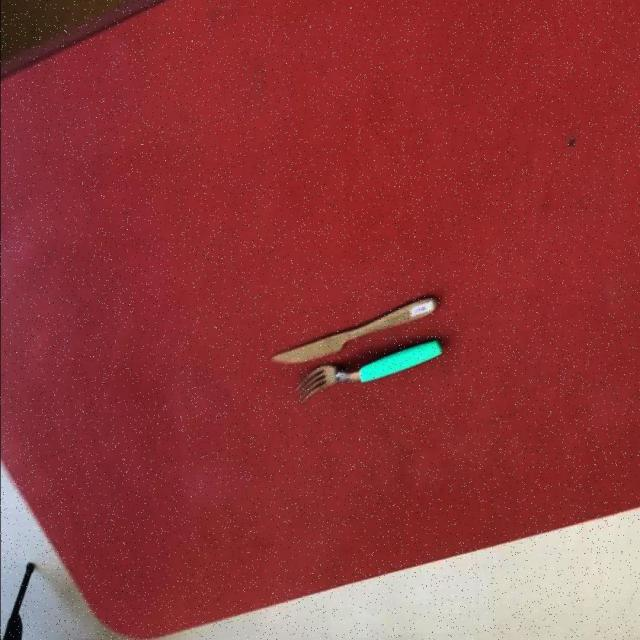Fork: (295, 336, 444, 403)
Knife: (270, 295, 440, 363)
